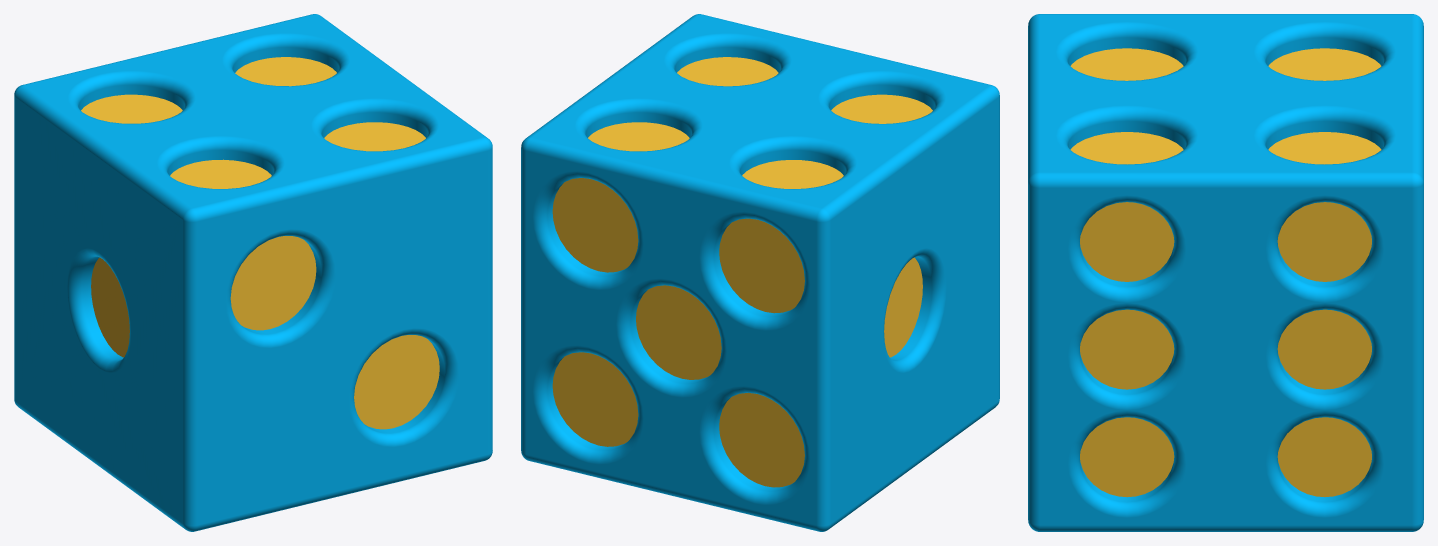
File: Dice.fbx
3 renders of one model, left to right at view 1: azimuth 30°, elevation 25°; view 2: azimuth 150°, elevation 25°; view 3: azimuth 270°, elevation 25°, orthographic. The views are drawn at different scales.
Parts seen in each view (by area): view 1: Body1; view 2: Body1; view 3: Body1.
Boxes of the visible parts, x1,y1,x2,y2 form: Body1: [14, 14, 492, 531]; Body1: [521, 14, 999, 531]; Body1: [1028, 14, 1423, 531].
Size of the model in its own units: 5000 by 5000 by 5000.
